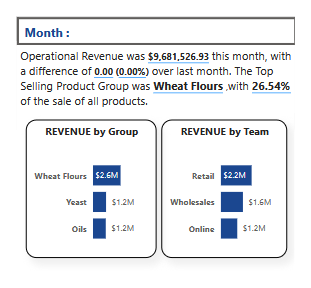

This screenshot's page, from the dashboard's own definition file:
{"tool":"powerbi","page":{"name":"REVENUE TOOLTIP","canvas":[398,364],"ordinal":1},"visuals":[{"type":"actionButton","box":[0,0,400,40],"z":0},{"type":"textbox","box":[0,40,400,97],"z":1000},{"type":"clusteredBarChart","fields":{"Y":["REVENUE CALCULATIONS.REVENUE"],"Category":["dProduct.Group"]},"box":[13,147,187,198],"z":2000},{"type":"clusteredBarChart","fields":{"Y":["REVENUE CALCULATIONS.REVENUE"],"Category":["Revenue.Team"]},"box":[207,147,180,198],"z":3000}]}

Visuals, with their boxes in screenshot pixels (x1, y1, x2, y2), scaled from the page's 398x364 canvas onto the 311x288 screenshot:
actionButton: locate(0, 0, 310, 32)
textbox: locate(0, 32, 310, 108)
clusteredBarChart - REVENUE CALCULATIONS.REVENUE x dProduct.Group: locate(10, 116, 156, 273)
clusteredBarChart - REVENUE CALCULATIONS.REVENUE x Revenue.Team: locate(162, 116, 302, 273)
